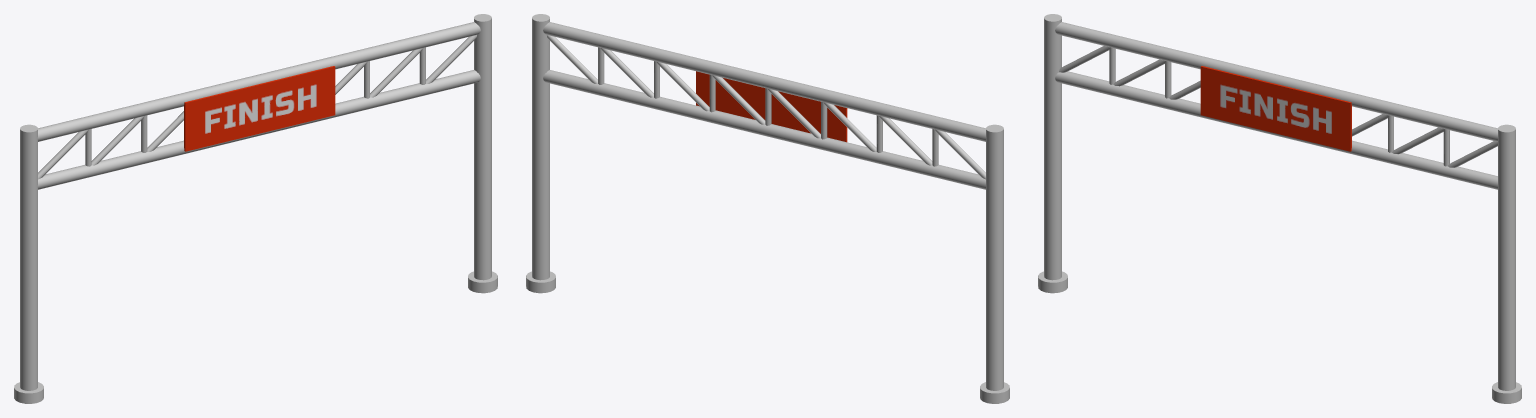
File: Arch-Finish_Red_Gantry.fbx
3 views of the same model, side by side, from view 1: azimuth 30°, elevation 25°; view 2: azimuth 150°, elevation 25°; view 3: azimuth 330°, elevation 25° (orthographic).
Visible parts, largest first — view 1: Arch-Finish_Red_Gantry, Arch-Finish_Red_Gantry-board, Arch-Finish_Red_Gantry-poles-dia, Arch-Finish_Red_Gantry-poles; view 2: Arch-Finish_Red_Gantry, Arch-Finish_Red_Gantry-board, Arch-Finish_Red_Gantry-poles-dia, Arch-Finish_Red_Gantry-poles; view 3: Arch-Finish_Red_Gantry, Arch-Finish_Red_Gantry-board, Arch-Finish_Red_Gantry-poles-dia, Arch-Finish_Red_Gantry-poles.
Part boxes in pixels (x1,y1,x2,y2): Arch-Finish_Red_Gantry: (14,14,497,403); Arch-Finish_Red_Gantry-board: (184,66,335,151); Arch-Finish_Red_Gantry-poles-dia: (38,35,476,179); Arch-Finish_Red_Gantry-poles: (85,47,425,166); Arch-Finish_Red_Gantry: (526,14,1009,403); Arch-Finish_Red_Gantry-board: (696,71,847,142); Arch-Finish_Red_Gantry-poles-dia: (547,35,985,179); Arch-Finish_Red_Gantry-poles: (598,47,938,166); Arch-Finish_Red_Gantry: (1038,14,1521,403); Arch-Finish_Red_Gantry-board: (1200,66,1351,151); Arch-Finish_Red_Gantry-poles-dia: (1059,46,1497,167); Arch-Finish_Red_Gantry-poles: (1109,47,1449,166).
Size of the model in its own units: 840 by 450 by 45.82.
